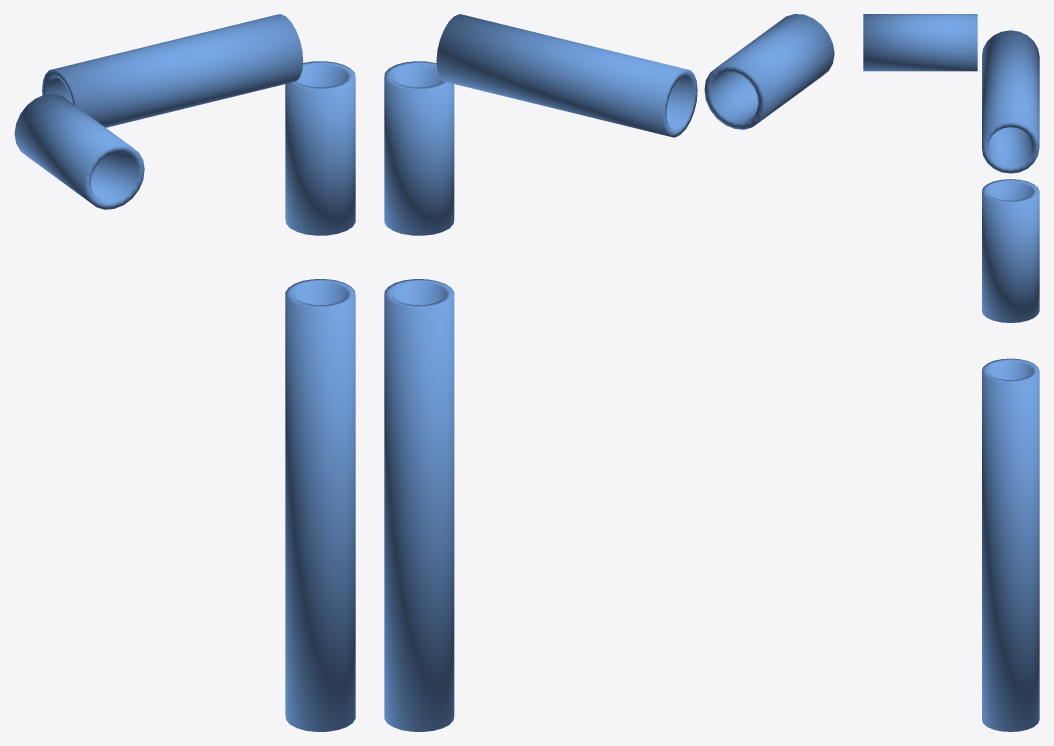
The model's file is slab_pipes_supply__plumbing__308d9418.glb.
The picture shows the model from 3 angles, left to right: view 1: azimuth 30°, elevation 25°; view 2: azimuth 150°, elevation 25°; view 3: azimuth 270°, elevation 25°; orthographic projection. The views are drawn at different scales.
Parts seen in each view (by area): view 1: pipe_supply_manifold_feed__pex.901; view 2: pipe_supply_manifold_feed__pex.901; view 3: pipe_supply_manifold_feed__pex.901.
Boxes of the visible parts, left/top/right/bottom form: pipe_supply_manifold_feed__pex.901: left=14, top=14, right=355, bottom=731; pipe_supply_manifold_feed__pex.901: left=384, top=14, right=834, bottom=731; pipe_supply_manifold_feed__pex.901: left=863, top=14, right=1039, bottom=731.
Size of the model in its own units: 0.1302 by 0.2478 by 0.0677.
